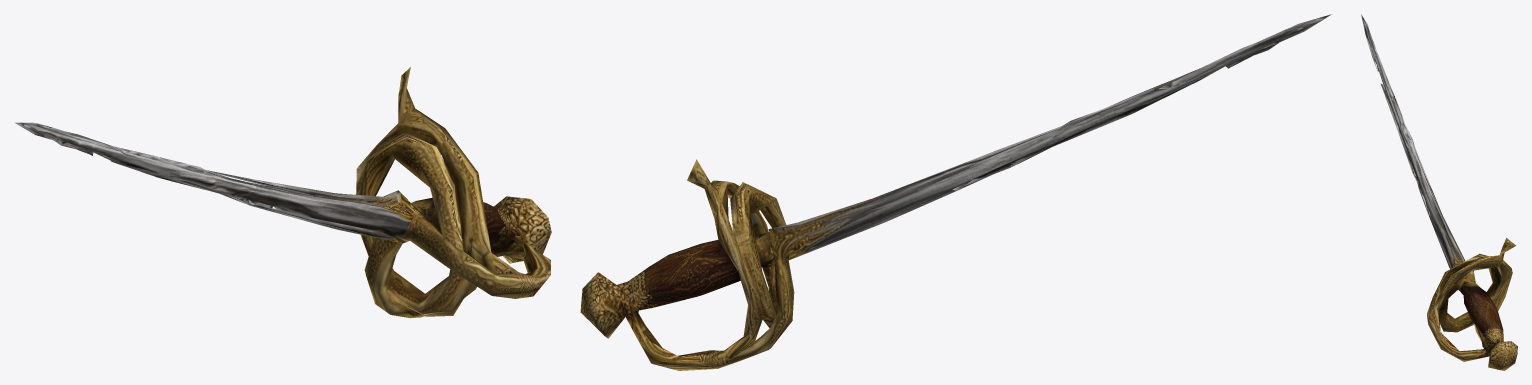
The model's file is cavalry_spd_melee.glb.
The picture shows the model from 3 angles, left to right: view 1: azimuth 30°, elevation 25°; view 2: azimuth 150°, elevation 25°; view 3: azimuth 270°, elevation 25°; orthographic projection. The views are drawn at different scales.
Visible parts, largest first — view 1: tripo_node_f67ccb2a-9f9a-44c8-be59-e50f3b714395; view 2: tripo_node_f67ccb2a-9f9a-44c8-be59-e50f3b714395; view 3: tripo_node_f67ccb2a-9f9a-44c8-be59-e50f3b714395.
Part boxes in pixels (<box>): tripo_node_f67ccb2a-9f9a-44c8-be59-e50f3b714395: <box>14,67,551,318</box>; tripo_node_f67ccb2a-9f9a-44c8-be59-e50f3b714395: <box>580,14,1331,370</box>; tripo_node_f67ccb2a-9f9a-44c8-be59-e50f3b714395: <box>1361,14,1517,370</box>.
Bounding box in the file's own units: 0.4955 × 0.3021 × 0.2017.
Materials: 1 (1 with a texture image).
